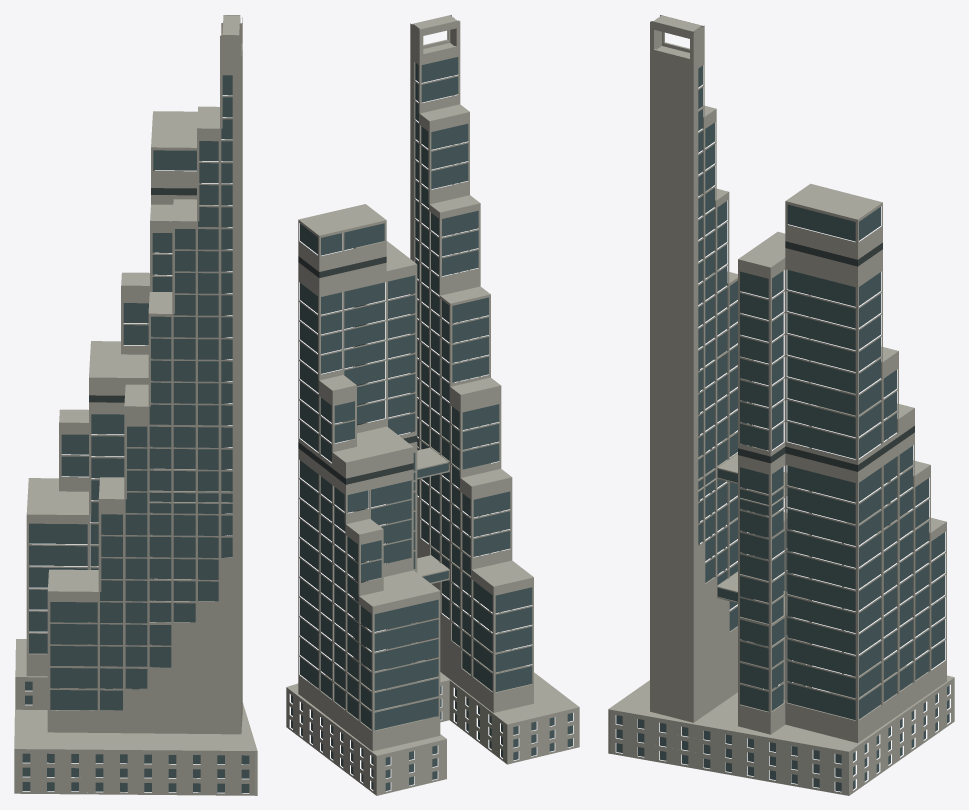
Rendered from bd-bacata-far.glb.
The picture shows the model from 3 angles, left to right: view 1: azimuth 30°, elevation 25°; view 2: azimuth 150°, elevation 25°; view 3: azimuth 270°, elevation 25°; orthographic projection. The views are drawn at different scales.
Parts seen in each view (by area): view 1: bd-bacata-0-stone, bd-bacata-0-glass, bd-bacata-0-shadow; view 2: bd-bacata-0-glass, bd-bacata-0-stone, bd-bacata-0-shadow; view 3: bd-bacata-0-stone, bd-bacata-0-glass, bd-bacata-0-shadow.
Part boxes in pixels (x1,y1,x2,y2): bd-bacata-0-stone: [14, 15, 257, 795]; bd-bacata-0-glass: [22, 75, 249, 792]; bd-bacata-0-shadow: [89, 161, 228, 403]; bd-bacata-0-glass: [291, 57, 572, 790]; bd-bacata-0-stone: [286, 15, 579, 795]; bd-bacata-0-shadow: [298, 256, 417, 484]; bd-bacata-0-stone: [608, 15, 954, 795]; bd-bacata-0-glass: [616, 65, 949, 791]; bd-bacata-0-shadow: [738, 241, 914, 471].
Size of the model in its own units: 81.73 by 216 by 92.42.
